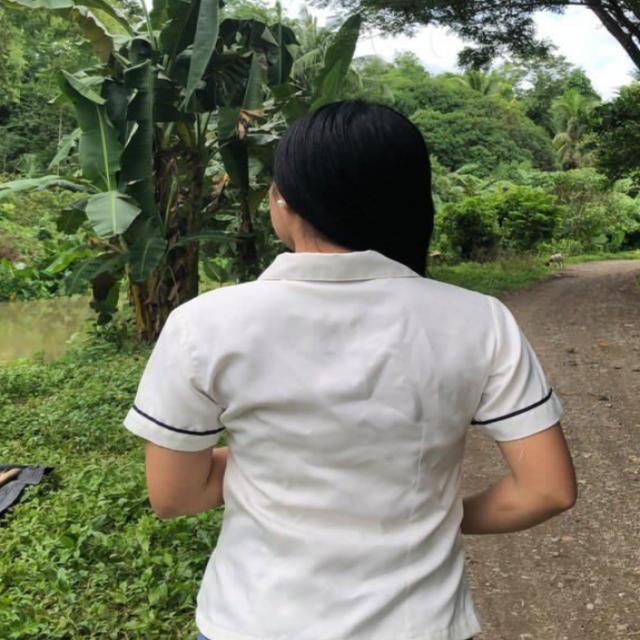education_female_uniform: (96, 212, 591, 640)
